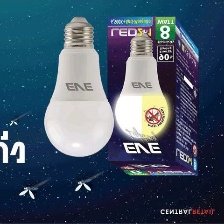carton: (103, 13, 202, 178)
light_bulb: (41, 15, 115, 158)
